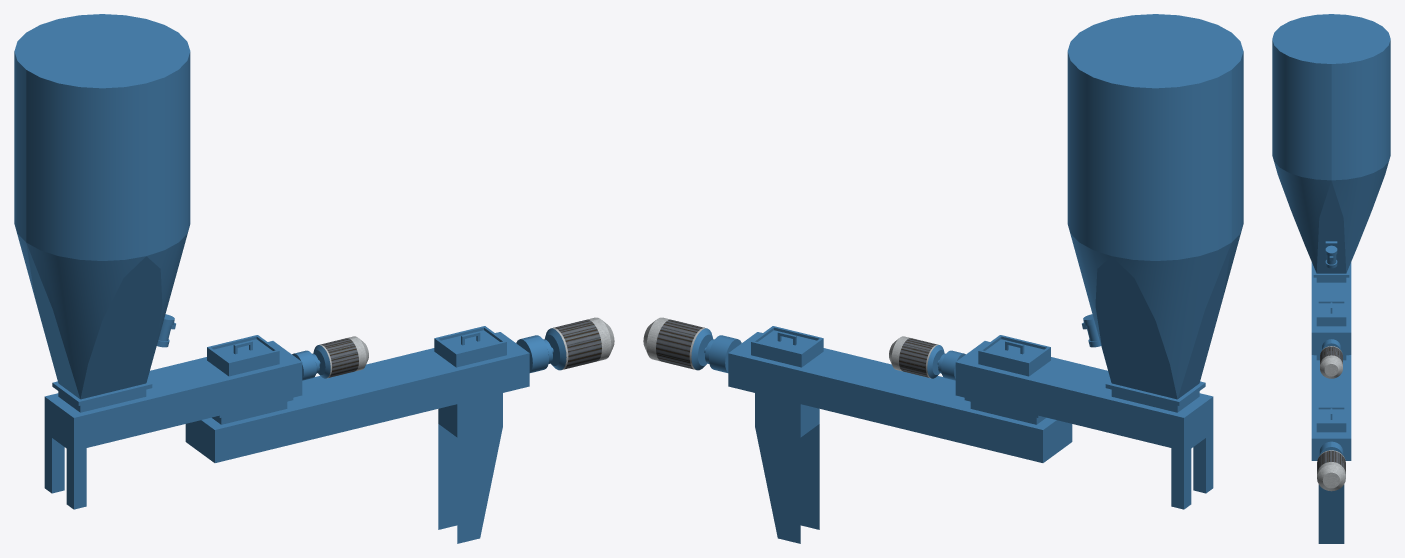
File: 给料电振机_双轴搅拌机.glb
3 views of the same model, side by side, from view 1: azimuth 30°, elevation 25°; view 2: azimuth 150°, elevation 25°; view 3: azimuth 270°, elevation 25° (orthographic). The views are drawn at different scales.
Parts seen in each view (by area): view 1: root; view 2: root; view 3: root.
Part boxes in pixels (x1=…): root: x1=14, y1=14, x2=614, y2=543; root: x1=643, y1=14, x2=1243, y2=543; root: x1=1272, y1=14, x2=1390, y2=543.
Bounding box in the file's own units: 4.58 × 4.29 × 1.2.
Materials: 3 (2 with a texture image).
